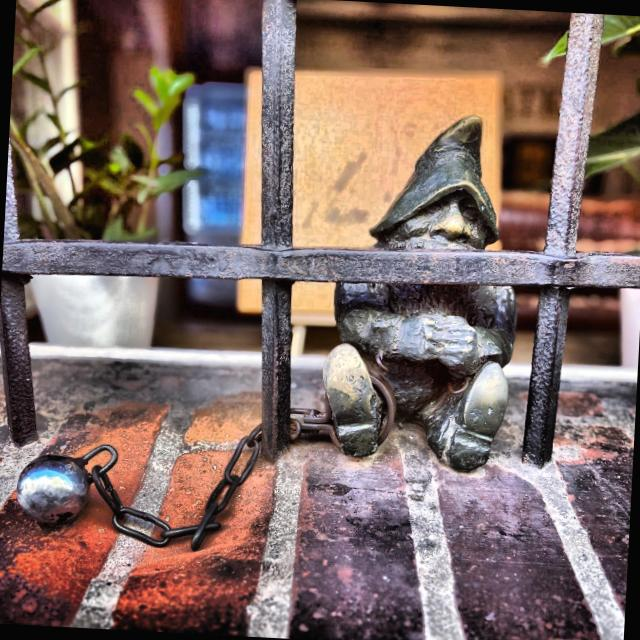Wiezien: (18, 116, 518, 549)
